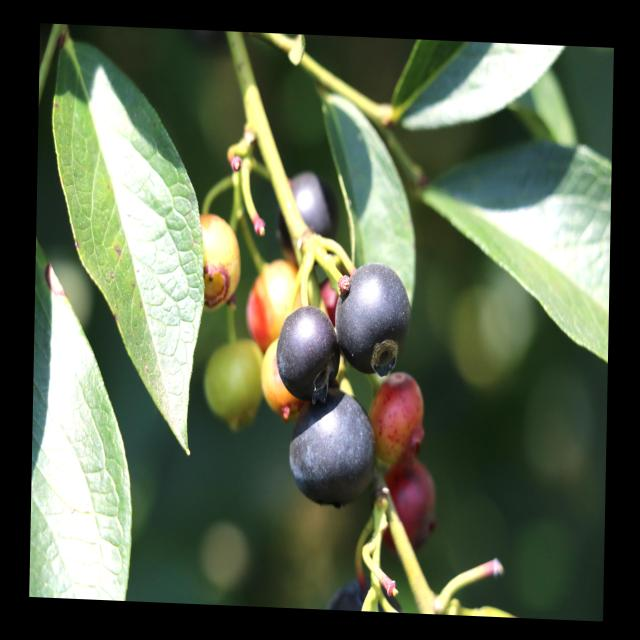blueberry: (284, 391, 377, 513), (334, 261, 411, 377), (279, 302, 335, 395), (281, 170, 335, 250)
blueberry-halfripe: (242, 250, 304, 343), (377, 463, 439, 548), (369, 368, 425, 460), (259, 336, 291, 418)
blueberry-unripe: (191, 209, 244, 311), (205, 332, 262, 421)
